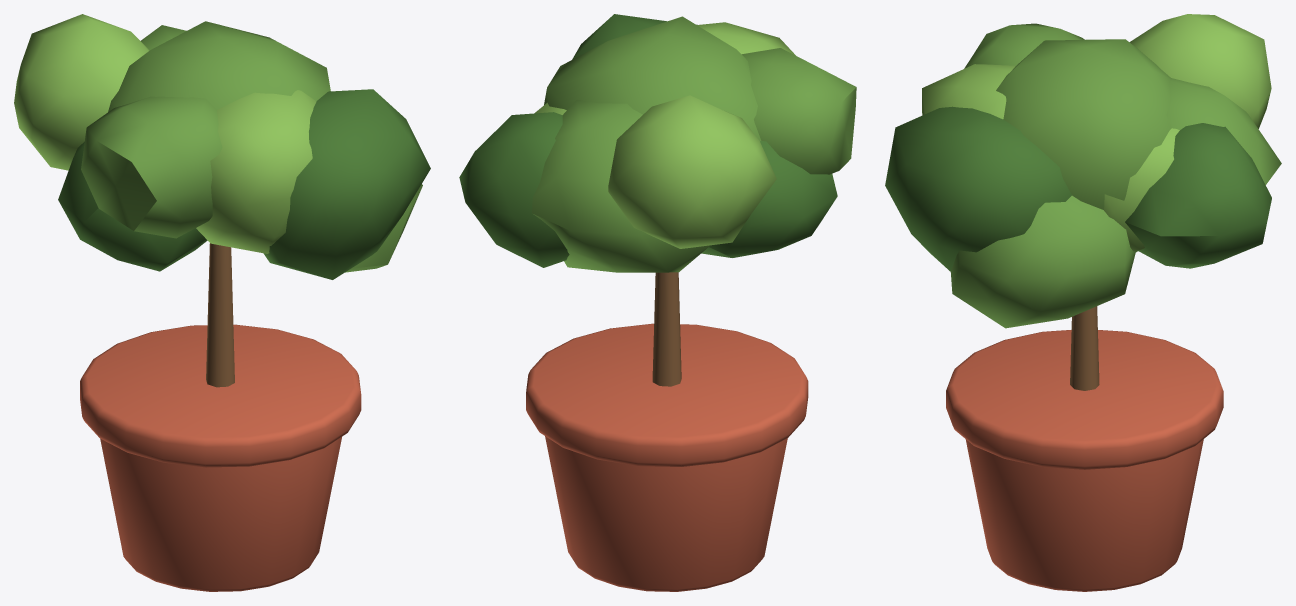
Rendered from plant_big.glb.
3 views of the same model, side by side, from view 1: azimuth 30°, elevation 25°; view 2: azimuth 150°, elevation 25°; view 3: azimuth 270°, elevation 25° (orthographic). The views are drawn at different scales.
Parts seen in each view (by area): view 1: plant_big; view 2: plant_big; view 3: plant_big.
Boxes of the visible parts, box(x1,y1,x2,y2) form: plant_big: box(14, 14, 430, 591); plant_big: box(459, 14, 856, 591); plant_big: box(885, 14, 1281, 591).
Size of the model in its own units: 1 by 1.56 by 1.11.
1 material, 1 textured.
